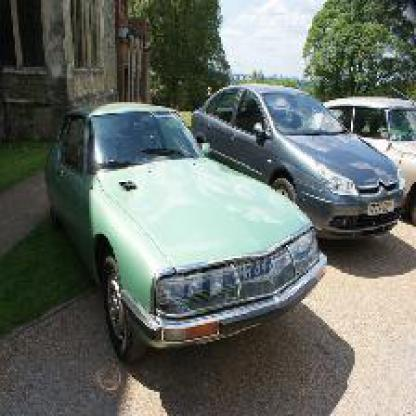not_emergency: (44, 108, 332, 364)
